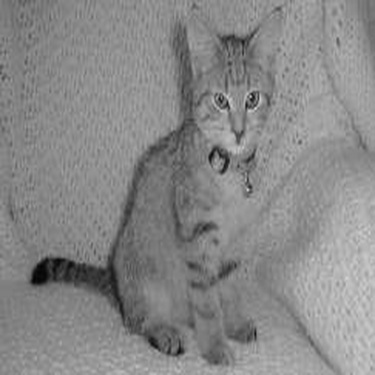cat: (28, 1, 285, 366)
